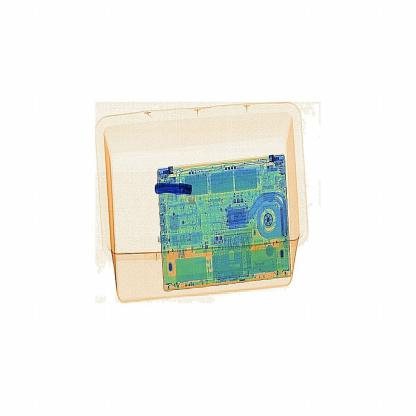knife: (147, 166, 198, 202)
